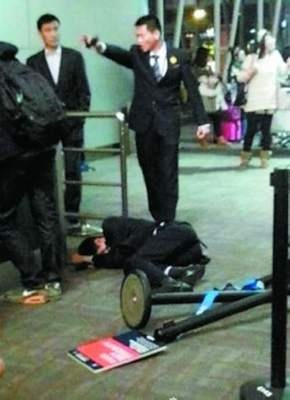falling: (67, 200, 215, 296)
